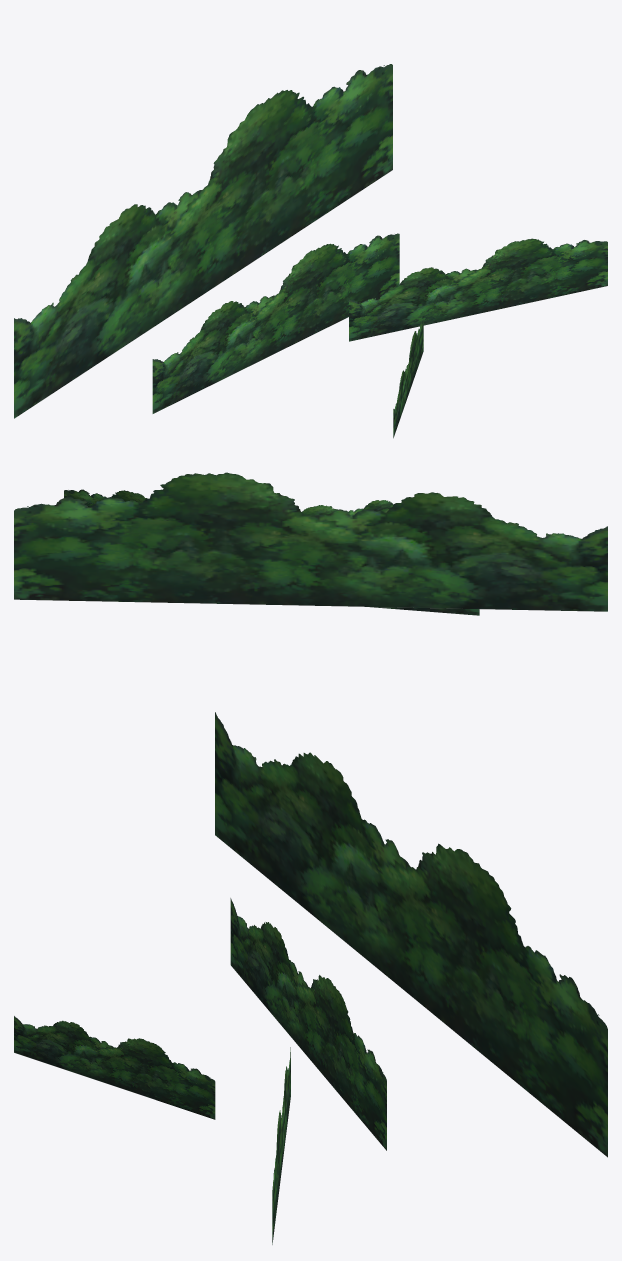
Rendered from boss5_zhibei_1.fbx.
3 renders of one model, top to bottom at view 1: azimuth 30°, elevation 25°; view 2: azimuth 150°, elevation 25°; view 3: azimuth 270°, elevation 25°, orthographic. The views are drawn at different scales.
Parts seen in each view (by area): view 1: boss5_zhibei_1; view 2: boss5_zhibei_1; view 3: boss5_zhibei_1.
Boxes of the visible parts, x1,y1,x2,y2 form: boss5_zhibei_1: (14,64,607,438); boss5_zhibei_1: (14,472,607,615); boss5_zhibei_1: (14,712,607,1244).
Size of the model in its own units: 5215 by 1545 by 3547.
